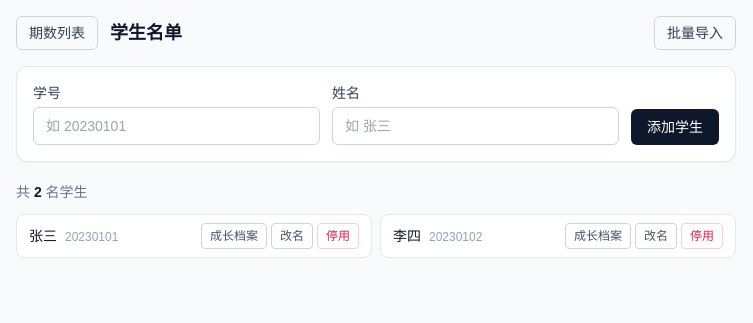
StudentsPage › adds a student and reloads the list
Expected: the text "张三" is shown, [29,228,57,244]
Type "20230103" into the field with placeholder "如 20230101".
click(176, 126); type("20230103")  # box [33,107,320,145]
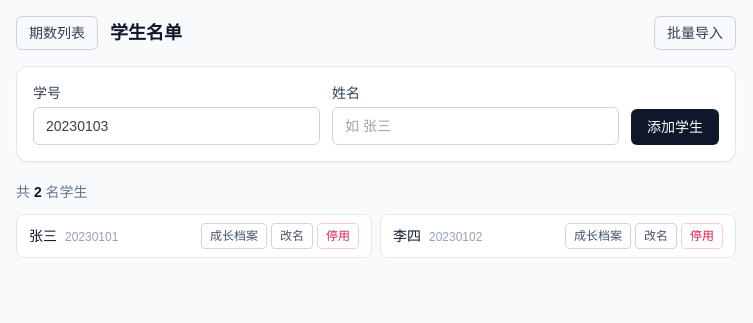
Type "王五" into the field with placeholder "如 张三".
click(476, 126); type("王五")  # box [332,107,619,145]
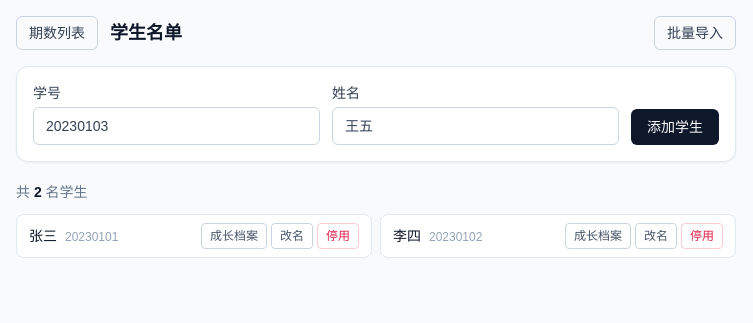
Click the button "添加学生".
click(675, 127)  # box [631,109,719,145]
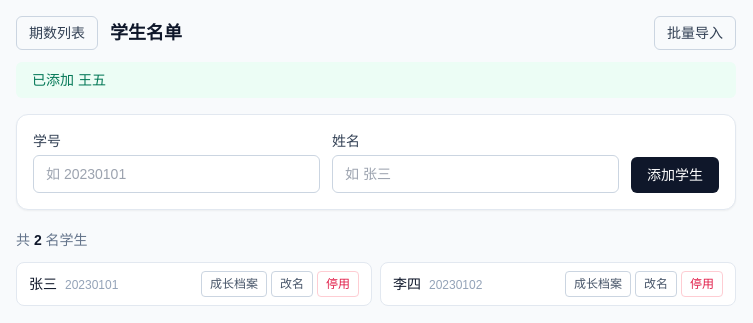
Expected: the text "已添加 王五" is shown, [16,62,736,98]
